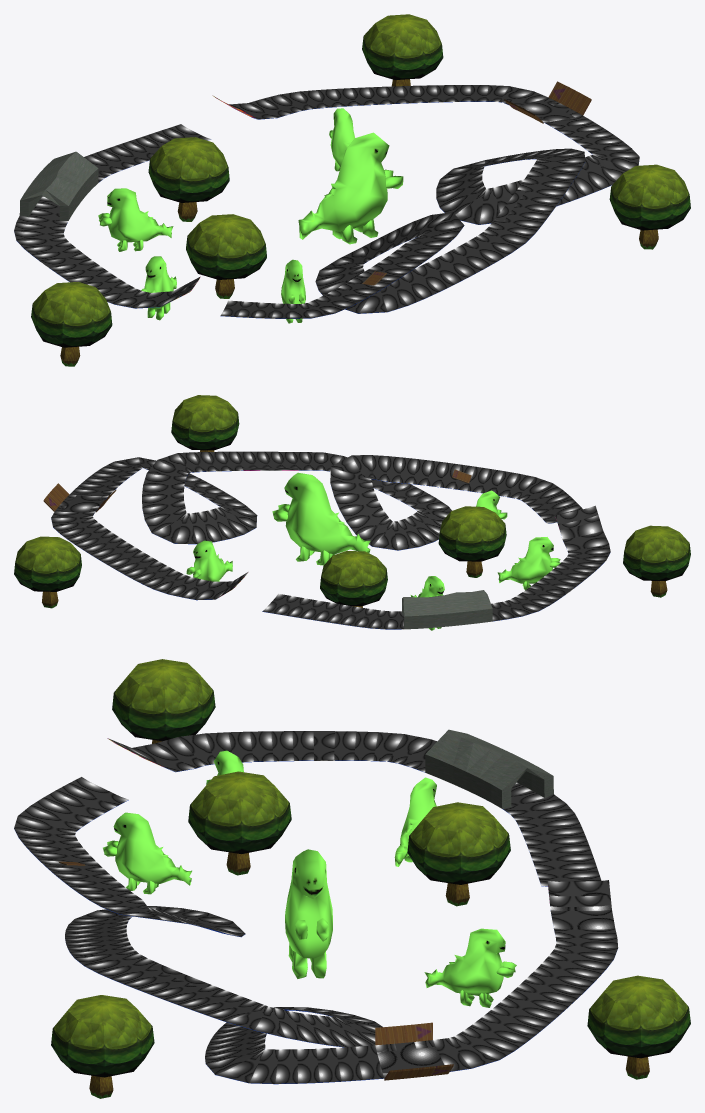
3 renders of one model, top to bottom at view 1: azimuth 30°, elevation 25°; view 2: azimuth 150°, elevation 25°; view 3: azimuth 270°, elevation 25°, orthographic. The views are drawn at different scales.
Parts seen in each view (by area): view 1: Grid.009_Grid.011_ddc_water, root.001_mesh_id41.001_root.001_mesh_id41.001_ddc_dinoobj, polygon0.004_polygon0.004_tree3D.004, polygon0.002_polygon0.002_tree3D.002, polygon0_polygon0_tree3D, polygon0.001_polygon0.001_tree3D.001, polygon0.003_polygon0.003_tree3D.003, Grid.003_Grid.003_ddc_tunnel, Grid.006_Grid.005_ddc_wood, Grid_Grid_ddc_road; view 2: Grid.009_Grid.011_ddc_water, root.001_mesh_id41.001_root.001_mesh_id41.001_ddc_dinoobj, polygon0_polygon0_tree3D, polygon0.003_polygon0.003_tree3D.003, polygon0.004_polygon0.004_tree3D.004, polygon0.002_polygon0.002_tree3D.002, polygon0.001_polygon0.001_tree3D.001, Grid.003_Grid.003_ddc_tunnel, Grid.006_Grid.005_ddc_wood, Grid_Grid_ddc_road; view 3: Grid.009_Grid.011_ddc_water, root.001_mesh_id41.001_root.001_mesh_id41.001_ddc_dinoobj, polygon0.002_polygon0.002_tree3D.002, polygon0.003_polygon0.003_tree3D.003, polygon0.001_polygon0.001_tree3D.001, polygon0_polygon0_tree3D, polygon0.004_polygon0.004_tree3D.004, Grid.003_Grid.003_ddc_tunnel, Grid.006_Grid.005_ddc_wood, Grid_Grid_ddc_road.
Boxes of the visible parts, <box> form: Grid.009_Grid.011_ddc_water: <box>14,85,639,318</box>; root.001_mesh_id41.001_root.001_mesh_id41.001_ddc_dinoobj: <box>98,108,403,323</box>; polygon0.004_polygon0.004_tree3D.004: <box>31,282,112,366</box>; polygon0.002_polygon0.002_tree3D.002: <box>609,164,690,249</box>; polygon0_polygon0_tree3D: <box>186,214,266,298</box>; polygon0.001_polygon0.001_tree3D.001: <box>148,137,229,221</box>; polygon0.003_polygon0.003_tree3D.003: <box>362,14,443,86</box>; Grid.003_Grid.003_ddc_tunnel: <box>19,151,98,220</box>; Grid.006_Grid.005_ddc_wood: <box>362,81,591,285</box>; Grid_Grid_ddc_road: <box>17,101,610,318</box>; Grid.009_Grid.011_ddc_water: <box>51,451,610,629</box>; root.001_mesh_id41.001_root.001_mesh_id41.001_ddc_dinoobj: <box>186,472,560,630</box>; polygon0_polygon0_tree3D: <box>438,506,506,577</box>; polygon0.003_polygon0.003_tree3D.003: <box>14,536,81,608</box>; polygon0.004_polygon0.004_tree3D.004: <box>623,525,690,597</box>; polygon0.002_polygon0.002_tree3D.002: <box>171,395,239,451</box>; polygon0.001_polygon0.001_tree3D.001: <box>320,550,387,607</box>; Grid.003_Grid.003_ddc_tunnel: <box>402,590,492,629</box>; Grid.006_Grid.005_ddc_wood: <box>43,469,471,512</box>; Grid_Grid_ddc_road: <box>53,468,604,629</box>; Grid.009_Grid.011_ddc_water: <box>14,731,618,1083</box>; root.001_mesh_id41.001_root.001_mesh_id41.001_ddc_dinoobj: <box>103,750,516,1007</box>; polygon0.002_polygon0.002_tree3D.002: <box>51,995,154,1098</box>; polygon0.003_polygon0.003_tree3D.003: <box>587,975,690,1079</box>; polygon0.001_polygon0.001_tree3D.001: <box>407,802,510,906</box>; polygon0_polygon0_tree3D: <box>188,771,291,875</box>; polygon0.004_polygon0.004_tree3D.004: <box>112,659,215,743</box>; Grid.003_Grid.003_ddc_tunnel: <box>425,729,553,808</box>; Grid.006_Grid.005_ddc_wood: <box>58,861,453,1080</box>; Grid_Grid_ddc_road: <box>19,760,613,1084</box>.
Size of what is drawn, in the model's own units: 54857 by 7934 by 40040.
Materials: 9 (9 with a texture image).
